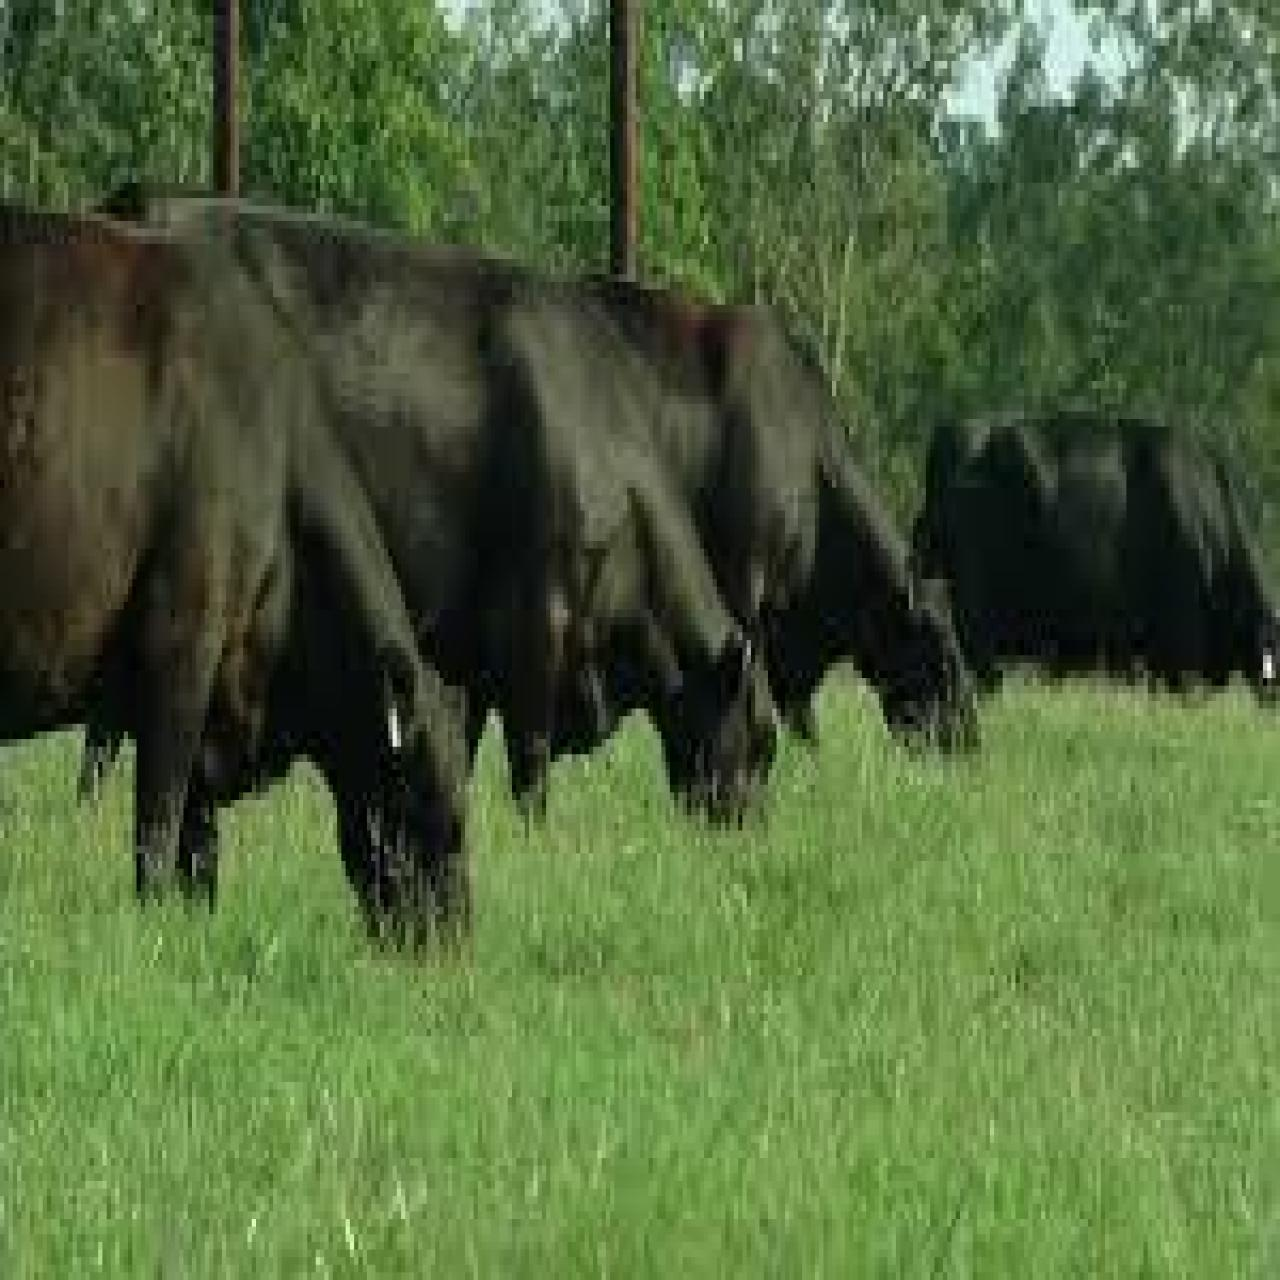cow: (128, 210, 785, 826), (0, 205, 469, 960), (554, 267, 986, 762), (908, 404, 1280, 701)
